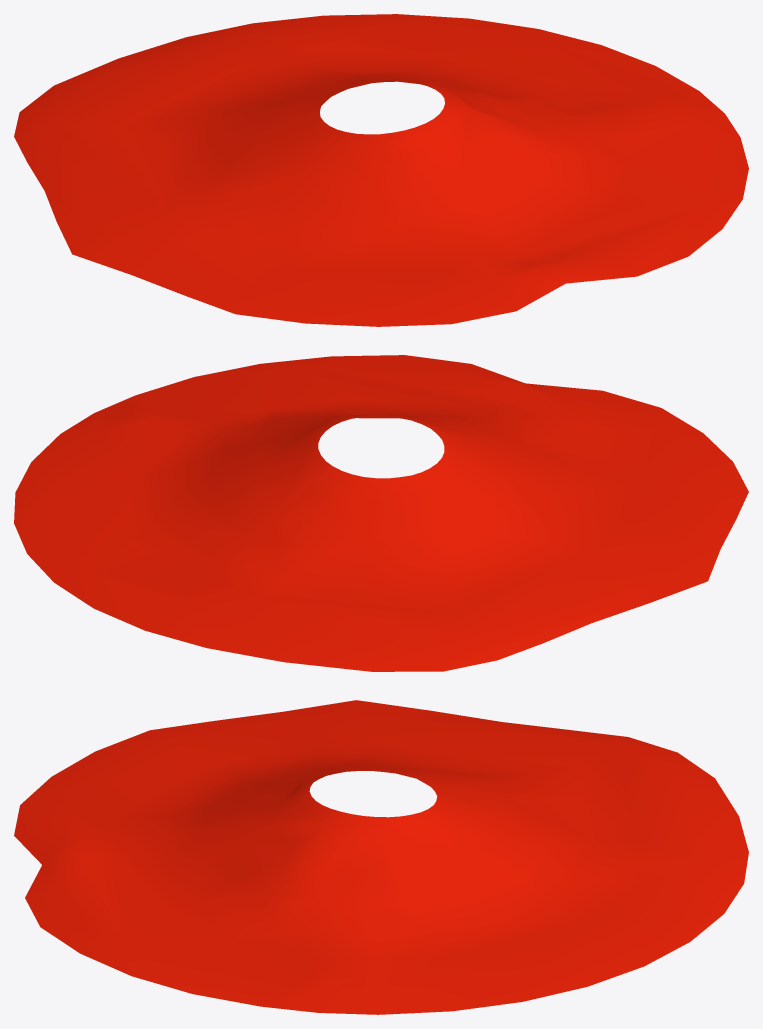
The model's file is Prefab_Xmas_Tree_Skirt_A.glb.
The picture shows the model from 3 angles, top to bottom: view 1: azimuth 30°, elevation 25°; view 2: azimuth 150°, elevation 25°; view 3: azimuth 270°, elevation 25°; orthographic projection.
Visible parts, largest first — view 1: TreeSkirt_A; view 2: TreeSkirt_A; view 3: TreeSkirt_A.
Boxes of the visible parts, box(x1,y1,x2,y2) form: TreeSkirt_A: box(14, 14, 748, 326); TreeSkirt_A: box(14, 355, 748, 671); TreeSkirt_A: box(14, 700, 748, 1014).
Bounding box in the file's own units: 2.04 × 0.2076 × 2.01.
